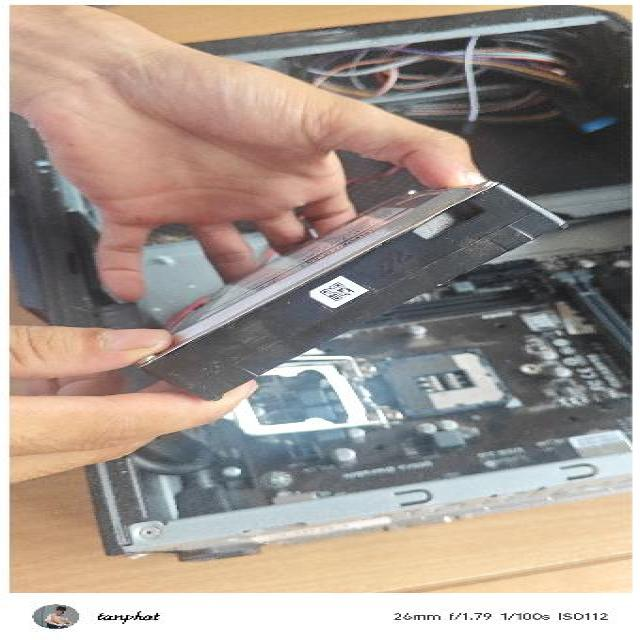DISK: (125, 178, 573, 401)
